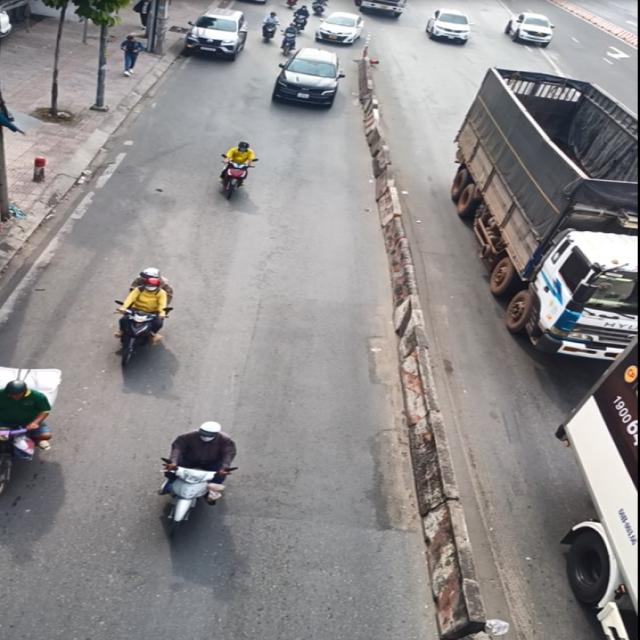car: (273, 42, 339, 115), (506, 9, 566, 51), (424, 9, 479, 50)
motor: (152, 416, 240, 547), (101, 266, 177, 371), (210, 140, 262, 204)
